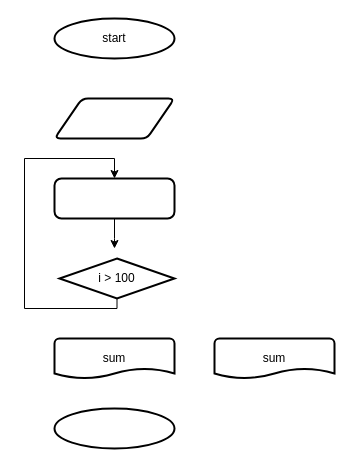
Image size: 353x466. Some labels were removed from this diagram. The centre of each missing label's shape, as x and y in pixels:
"I ++" belongs at [114,198].
"i = 0 sum = 0" belongs at [114,118].
